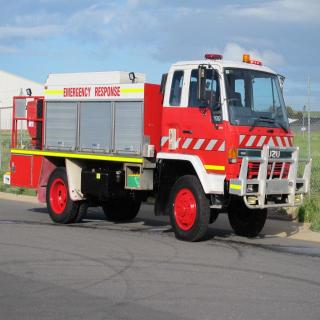Fire_truck: (3, 52, 312, 242)
